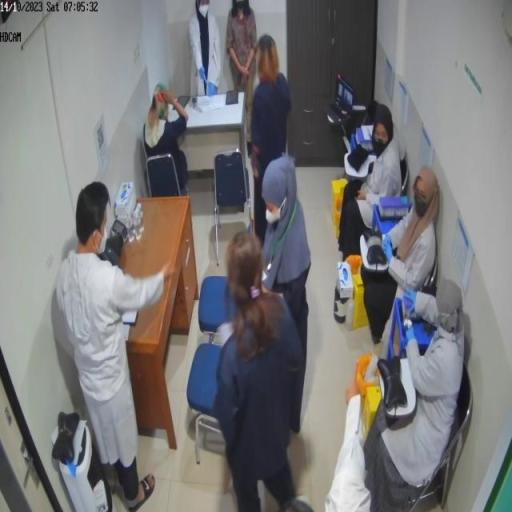person: (53, 182, 171, 507), (214, 231, 314, 509), (362, 290, 467, 507), (361, 165, 440, 344), (340, 102, 403, 262), (261, 154, 312, 348), (251, 35, 292, 248), (145, 84, 192, 197), (227, 1, 259, 153), (189, 1, 224, 99)
